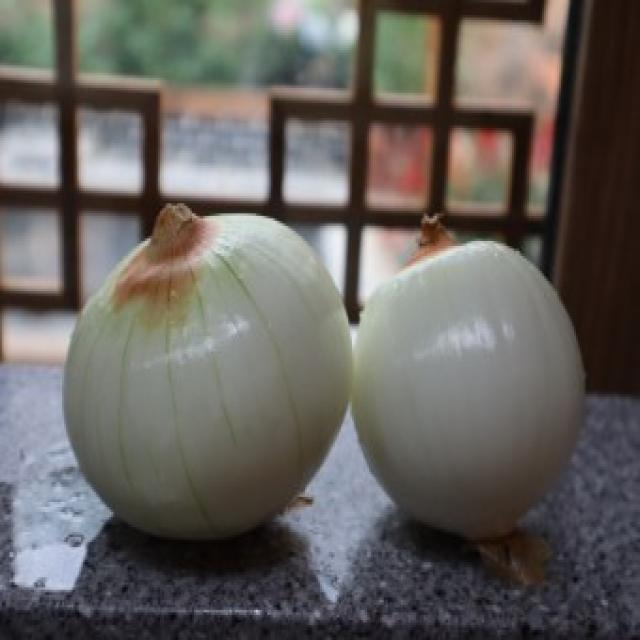onion: (49, 190, 352, 540), (350, 204, 601, 574)
